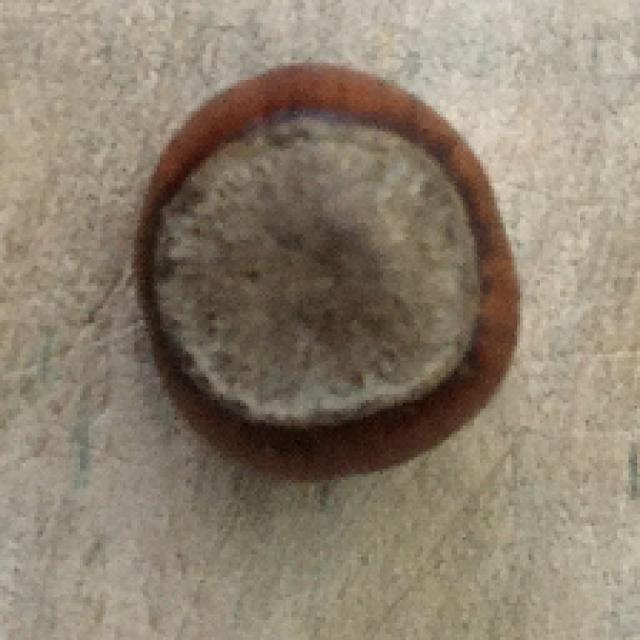QualityHazelnut: (133, 64, 524, 486)
